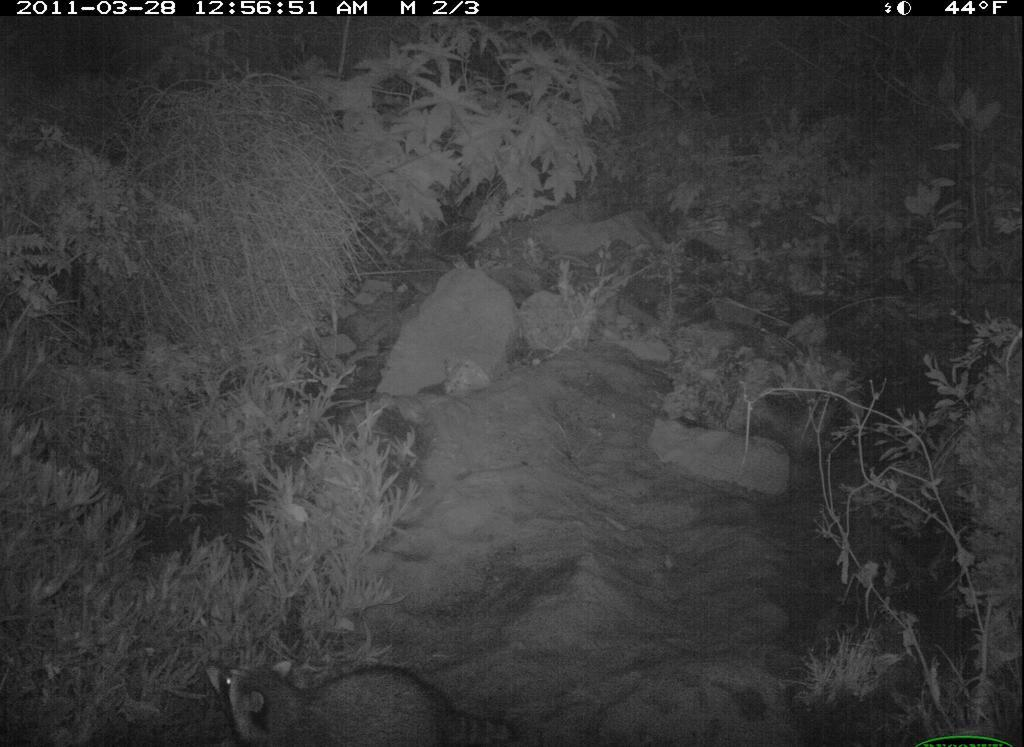raccoon: (201, 657, 524, 747)
